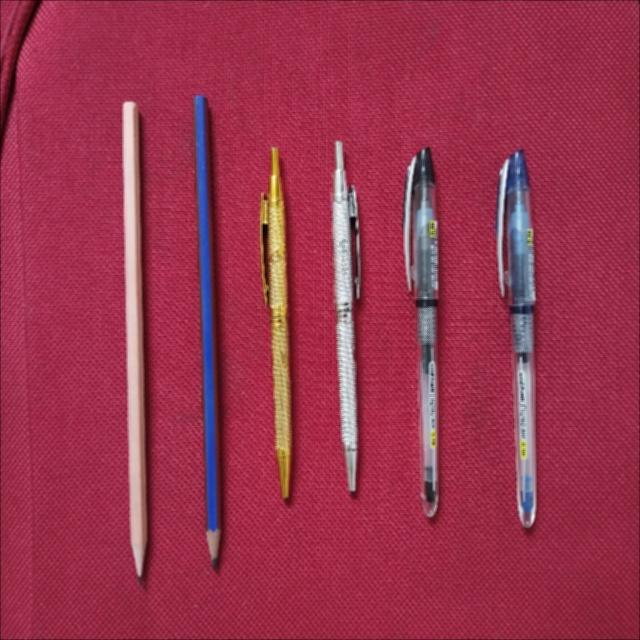pen: (496, 150, 535, 526), (404, 148, 438, 516)
pencil: (194, 95, 219, 568), (123, 102, 146, 581)
signature pen: (260, 148, 290, 498), (332, 141, 360, 492)
